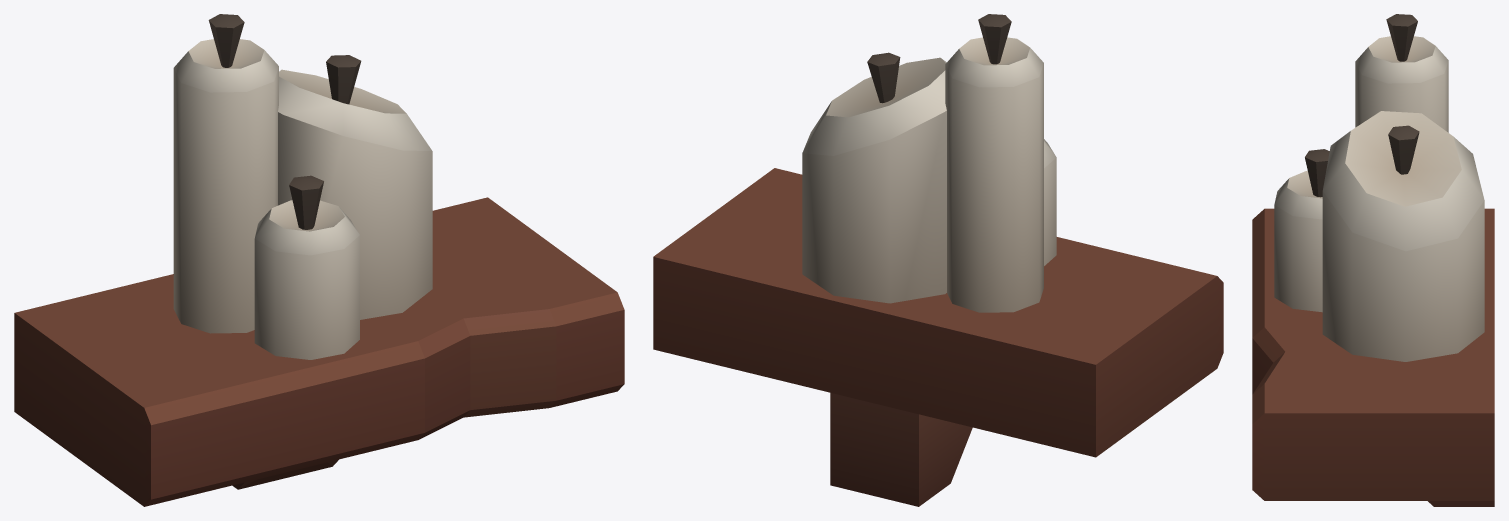
File: shelf-small-candles.glb
3 renders of one model, left to right at view 1: azimuth 30°, elevation 25°; view 2: azimuth 150°, elevation 25°; view 3: azimuth 270°, elevation 25°, orthographic. The views are drawn at different scales.
Visible parts, largest first — view 1: shelf-small-candles; view 2: shelf-small-candles; view 3: shelf-small-candles.
Boxes of the visible parts, bbox=[...] form: shelf-small-candles: bbox=[14, 14, 624, 506]; shelf-small-candles: bbox=[653, 14, 1223, 506]; shelf-small-candles: bbox=[1252, 14, 1494, 506].
Size of the model in its own units: 0.7544 by 0.75 by 0.3772.
